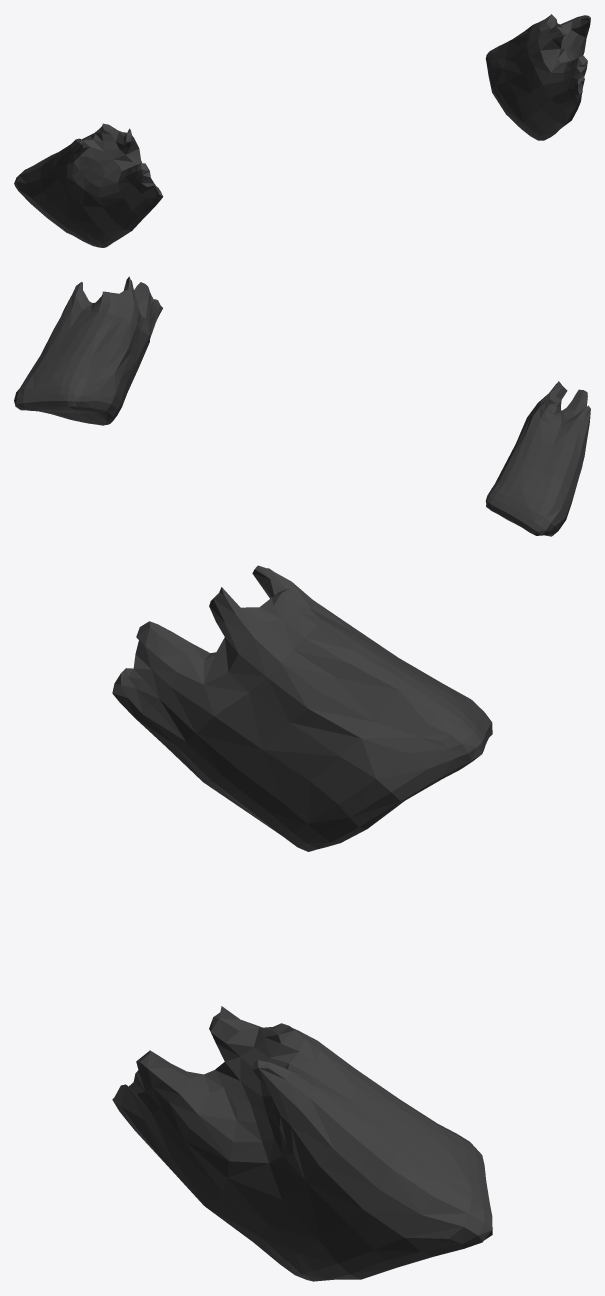
Rendered from R_max_PM2_LO.glb.
The picture shows the model from 3 angles, top to bottom: view 1: azimuth 30°, elevation 25°; view 2: azimuth 150°, elevation 25°; view 3: azimuth 270°, elevation 25°; orthographic projection. The views are drawn at different scales.
Parts seen in each view (by area): view 1: R_max_PM2_LO; view 2: R_max_PM2_LO; view 3: R_max_PM2_LO.
Boxes of the visible parts, x1=… form: R_max_PM2_LO: x1=14, y1=14, x2=590, y2=247; R_max_PM2_LO: x1=14, y1=276, x2=590, y2=536; R_max_PM2_LO: x1=112, y1=565, x2=492, y2=1281.
Bounding box in the file's own units: 0.00124 × 0.000295 × 0.000381.
1 material, 1 textured.
